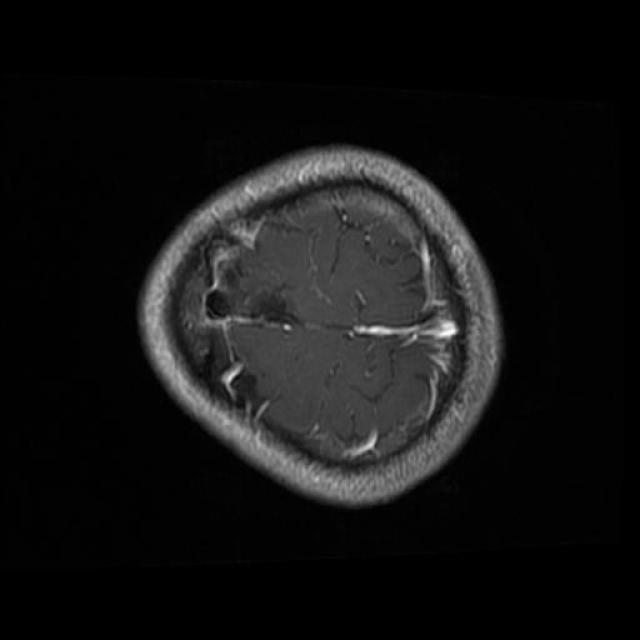Glioma: (172, 218, 279, 418)
